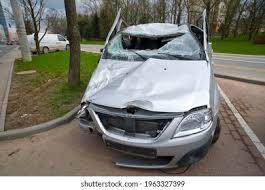Front-Windscreen-Damage: (100, 22, 207, 60)
bonnet-dent: (80, 59, 214, 115)
front-bumper-dent: (78, 115, 216, 168)
